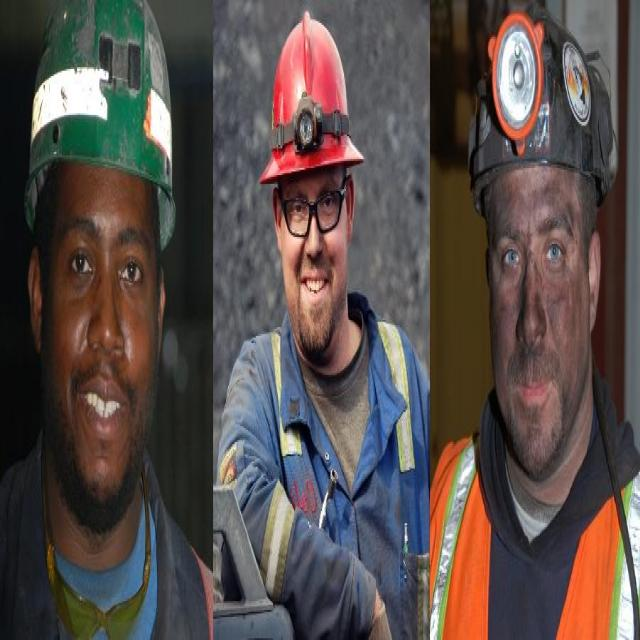Reflective-Jacket: (247, 316, 424, 640), (429, 422, 640, 640), (3, 458, 208, 640)
Safety-Helmet: (19, 0, 182, 216), (462, 2, 624, 207), (259, 12, 365, 191)
